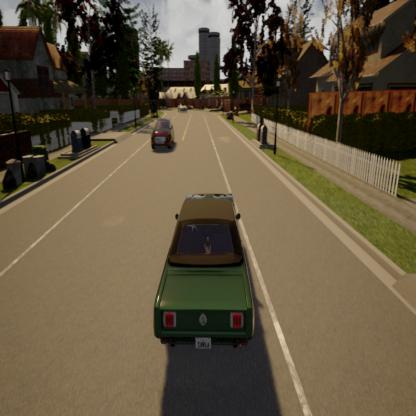Cars: (153, 193, 255, 353), (151, 117, 174, 150), (178, 102, 188, 114)
